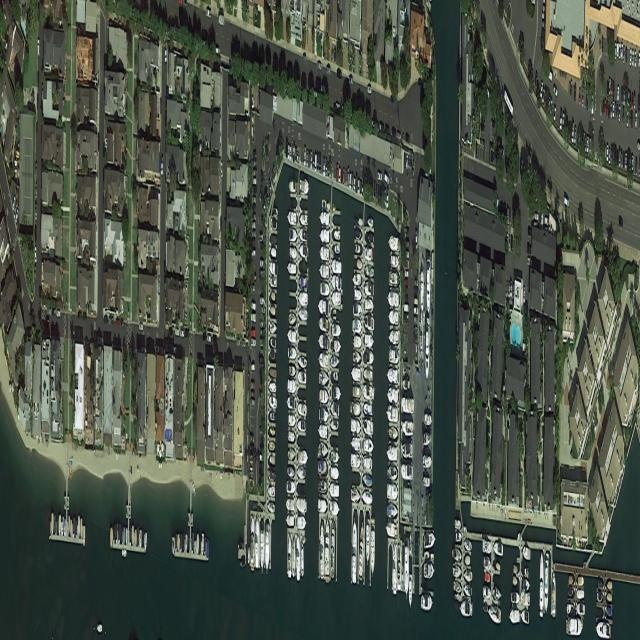large-vehicle: (504, 87, 514, 118)
ship: (358, 522, 365, 582), (352, 517, 357, 584), (325, 517, 330, 584), (544, 552, 549, 616), (425, 318, 430, 382), (539, 553, 544, 615), (404, 547, 409, 601), (265, 522, 270, 576), (568, 617, 582, 636), (488, 605, 501, 624), (401, 441, 413, 461), (596, 622, 610, 639), (331, 521, 335, 579), (320, 522, 324, 579), (251, 516, 255, 572), (401, 397, 414, 414), (260, 521, 264, 576), (388, 235, 400, 253), (401, 463, 413, 481), (427, 261, 431, 315), (371, 525, 375, 578), (255, 516, 259, 569), (387, 405, 398, 424), (386, 521, 397, 540), (393, 542, 397, 594), (402, 421, 414, 438), (387, 368, 398, 386), (387, 387, 398, 405), (387, 445, 398, 463), (552, 571, 556, 620), (366, 518, 370, 566), (421, 595, 433, 611), (388, 292, 399, 309), (318, 299, 329, 316), (363, 437, 374, 454), (387, 483, 398, 500), (424, 563, 435, 580), (318, 442, 329, 459), (319, 316, 329, 334), (320, 246, 330, 264), (363, 418, 373, 436), (386, 504, 398, 519), (424, 534, 436, 549), (350, 401, 361, 417), (388, 330, 399, 346), (318, 334, 329, 350), (319, 264, 330, 280), (460, 601, 471, 617), (331, 386, 342, 402), (292, 536, 296, 579), (351, 366, 361, 383), (389, 271, 399, 288), (389, 310, 399, 327), (319, 352, 329, 369), (320, 210, 330, 227), (363, 473, 373, 490), (362, 455, 372, 472), (319, 370, 329, 387), (330, 500, 340, 517), (300, 179, 310, 196), (287, 210, 297, 227), (362, 490, 373, 505), (387, 466, 398, 481), (363, 385, 373, 401), (332, 259, 342, 275), (351, 488, 361, 504), (351, 436, 361, 452), (297, 498, 307, 514), (319, 407, 329, 423), (332, 275, 341, 292), (318, 423, 327, 440), (289, 227, 298, 244), (364, 316, 374, 331), (351, 419, 361, 434), (332, 340, 342, 355), (320, 282, 330, 297), (351, 454, 361, 469), (389, 426, 399, 441), (492, 587, 502, 602), (287, 329, 297, 344), (365, 282, 374, 298), (494, 541, 503, 557), (330, 483, 339, 499), (319, 479, 328, 495), (330, 402, 339, 418), (398, 544, 401, 591), (297, 535, 300, 582), (363, 369, 373, 383), (353, 319, 363, 333), (320, 230, 330, 244), (298, 451, 308, 465), (318, 499, 328, 513), (318, 461, 328, 475), (521, 608, 529, 625), (353, 350, 362, 365), (390, 350, 399, 365), (363, 403, 372, 418), (332, 291, 341, 306), (420, 310, 423, 355), (320, 389, 329, 404), (287, 480, 296, 495), (331, 466, 340, 481), (289, 180, 298, 195), (453, 548, 462, 563), (453, 564, 462, 579), (288, 535, 291, 579), (297, 517, 307, 530), (523, 546, 531, 562), (365, 351, 374, 365), (365, 299, 374, 313), (353, 302, 362, 316), (365, 265, 374, 279), (510, 610, 519, 624), (423, 455, 432, 469), (297, 467, 306, 481), (298, 403, 307, 417), (299, 293, 308, 307), (299, 308, 308, 322), (364, 247, 372, 262), (483, 585, 491, 600), (421, 271, 424, 311), (424, 432, 432, 447), (269, 396, 277, 411), (287, 465, 295, 480), (287, 396, 295, 411), (299, 244, 307, 259), (287, 263, 297, 275), (288, 379, 296, 394), (353, 387, 362, 400), (365, 334, 374, 347), (332, 324, 341, 337), (521, 579, 530, 592), (483, 541, 492, 554), (286, 499, 295, 512), (331, 451, 340, 464), (330, 419, 339, 432), (288, 347, 297, 360), (299, 228, 307, 242), (270, 262, 278, 276), (289, 312, 297, 326), (454, 580, 462, 594), (511, 592, 520, 604), (464, 571, 473, 583), (299, 277, 308, 289), (354, 336, 362, 349), (354, 289, 362, 302), (391, 256, 399, 269), (331, 356, 339, 369), (522, 593, 530, 606), (464, 584, 472, 597), (402, 379, 410, 392), (288, 414, 296, 427), (298, 419, 306, 432), (298, 371, 306, 384), (409, 575, 412, 609), (301, 544, 304, 578), (576, 604, 585, 615), (298, 358, 307, 369), (484, 557, 491, 571), (290, 247, 297, 261), (464, 539, 472, 551), (269, 368, 277, 380), (288, 449, 296, 461), (286, 514, 294, 526), (300, 214, 308, 226), (425, 414, 432, 427), (268, 486, 275, 499), (353, 275, 361, 286), (267, 502, 275, 513), (288, 432, 296, 443), (268, 470, 275, 482), (270, 322, 277, 334), (577, 590, 585, 600), (357, 258, 363, 271), (240, 557, 246, 570), (270, 278, 277, 289), (409, 533, 412, 558), (367, 217, 373, 229), (355, 229, 361, 241), (424, 549, 430, 561), (423, 477, 430, 487), (269, 383, 276, 393), (289, 366, 296, 376), (270, 234, 277, 244), (334, 230, 340, 241), (485, 573, 491, 584), (51, 513, 54, 535), (110, 527, 113, 549), (270, 338, 276, 349), (455, 520, 461, 531), (567, 605, 574, 614), (196, 532, 199, 553), (355, 244, 361, 254), (368, 234, 374, 244), (185, 534, 188, 554), (238, 542, 244, 552), (118, 525, 121, 545), (80, 519, 83, 539), (271, 220, 277, 230), (456, 533, 462, 543), (177, 534, 180, 553), (513, 576, 518, 587), (496, 562, 501, 573), (97, 623, 102, 634), (513, 563, 518, 574), (483, 603, 488, 614), (334, 245, 340, 254), (578, 577, 584, 586), (597, 593, 603, 602), (606, 608, 612, 617), (113, 526, 116, 544), (270, 307, 276, 316), (465, 556, 470, 566), (270, 456, 275, 466), (271, 248, 276, 258), (402, 564, 404, 589), (524, 566, 529, 576), (202, 533, 204, 557), (269, 443, 275, 451), (59, 514, 61, 537), (78, 516, 80, 539), (598, 581, 603, 590), (333, 373, 338, 382), (122, 549, 127, 558), (132, 526, 134, 548), (192, 532, 194, 554), (207, 539, 209, 561), (68, 515, 70, 537), (83, 526, 85, 548), (322, 198, 326, 209), (145, 532, 147, 553), (116, 523, 118, 544), (73, 518, 75, 539), (569, 577, 574, 585), (607, 582, 612, 590), (607, 594, 612, 602), (172, 537, 174, 557), (62, 517, 64, 537), (270, 352, 275, 360), (271, 292, 275, 302), (130, 528, 132, 547), (175, 534, 177, 553), (204, 537, 206, 556), (135, 530, 137, 548), (140, 530, 142, 548), (180, 535, 182, 553), (248, 547, 250, 565), (123, 527, 125, 545), (64, 519, 66, 537), (70, 520, 72, 538), (75, 521, 77, 539), (274, 208, 278, 217), (199, 536, 201, 554), (270, 414, 275, 421), (126, 529, 128, 546), (566, 618, 568, 635), (569, 589, 573, 597), (431, 553, 434, 563)
small-vehicle: (379, 120, 385, 135), (391, 126, 397, 141), (218, 13, 224, 27), (206, 6, 212, 19), (384, 172, 390, 185), (520, 159, 524, 178), (566, 354, 570, 373), (564, 195, 569, 210), (266, 187, 270, 205), (262, 195, 266, 213), (259, 186, 263, 204), (265, 145, 269, 163), (251, 312, 257, 324), (553, 85, 558, 99), (572, 121, 575, 144), (12, 195, 16, 212), (559, 110, 562, 132), (415, 229, 418, 251), (540, 79, 543, 100), (535, 70, 538, 91), (527, 256, 532, 268), (414, 284, 419, 296), (403, 303, 409, 313), (337, 69, 342, 81), (14, 199, 17, 219), (37, 2, 40, 22), (347, 166, 350, 186), (351, 172, 354, 192), (386, 188, 389, 208), (385, 123, 390, 135), (405, 132, 410, 144), (323, 157, 326, 177), (251, 300, 256, 312), (574, 126, 577, 145), (506, 234, 509, 253), (539, 211, 542, 230), (544, 86, 547, 105), (220, 160, 223, 179), (397, 129, 401, 143), (175, 327, 180, 338), (82, 312, 87, 323), (251, 327, 256, 338), (367, 85, 372, 96), (542, 86, 545, 104), (553, 105, 556, 123), (413, 325, 416, 343), (633, 92, 636, 110), (357, 177, 360, 195), (375, 181, 378, 199), (260, 338, 266, 347), (285, 139, 288, 157), (619, 217, 623, 230), (548, 96, 551, 113), (523, 287, 526, 304), (269, 177, 272, 194), (629, 48, 632, 65), (631, 155, 634, 172), (34, 247, 37, 264), (37, 39, 40, 56), (289, 144, 292, 161), (98, 337, 103, 347), (317, 60, 322, 70), (321, 83, 326, 93), (312, 90, 317, 100), (335, 102, 340, 112), (528, 226, 532, 238), (631, 93, 634, 109), (171, 347, 177, 355), (15, 208, 18, 224), (260, 297, 266, 305), (287, 143, 290, 159), (180, 329, 185, 338), (185, 329, 190, 338), (326, 66, 331, 75), (214, 47, 219, 56), (47, 307, 52, 316), (405, 239, 410, 248), (260, 259, 265, 268), (251, 338, 256, 347), (161, 155, 163, 177), (262, 304, 266, 315), (250, 434, 254, 445), (349, 75, 353, 86), (635, 157, 637, 178), (378, 183, 380, 204), (319, 152, 321, 173), (317, 151, 319, 172), (542, 20, 546, 30), (413, 316, 418, 324), (535, 211, 539, 221), (39, 286, 41, 306), (260, 234, 265, 242), (169, 326, 173, 336), (303, 53, 307, 63), (334, 43, 336, 63), (252, 204, 256, 214), (165, 43, 167, 63), (57, 308, 61, 318), (158, 275, 160, 295), (104, 315, 108, 325), (139, 323, 144, 331), (343, 166, 345, 186), (378, 171, 382, 181), (261, 270, 265, 280), (313, 151, 315, 171), (570, 78, 572, 97), (579, 86, 581, 105), (568, 119, 570, 138), (585, 134, 587, 153), (587, 135, 589, 154), (541, 211, 543, 230), (508, 280, 510, 299), (506, 279, 508, 298), (609, 146, 611, 165), (623, 45, 625, 64), (325, 158, 327, 177), (336, 162, 338, 181), (349, 171, 351, 190), (356, 174, 358, 193), (315, 153, 317, 172), (304, 147, 306, 166), (625, 87, 627, 105), (562, 113, 564, 131), (586, 92, 588, 110), (570, 121, 572, 139), (542, 11, 546, 20), (509, 235, 511, 253), (414, 307, 418, 316), (414, 298, 418, 307), (481, 123, 485, 132), (509, 208, 511, 226), (511, 235, 513, 253), (545, 217, 549, 226), (510, 280, 512, 298), (260, 355, 264, 364), (391, 96, 395, 105), (613, 145, 615, 163), (615, 145, 617, 163), (632, 48, 634, 66), (621, 151, 623, 169), (613, 101, 615, 119), (615, 101, 617, 119), (621, 87, 623, 105), (615, 42, 617, 60), (617, 41, 619, 59), (611, 145, 613, 163), (619, 150, 621, 168), (623, 151, 625, 169), (252, 248, 256, 257), (220, 217, 222, 235), (207, 334, 211, 343), (155, 346, 159, 355), (253, 150, 257, 159), (253, 159, 257, 168), (253, 168, 257, 177), (252, 195, 256, 204), (252, 213, 256, 222), (35, 226, 37, 244), (34, 267, 36, 285), (52, 308, 56, 317), (109, 317, 113, 326), (37, 92, 39, 110), (252, 230, 256, 239), (345, 168, 347, 186), (404, 151, 406, 169), (406, 154, 408, 172), (408, 154, 410, 172), (410, 154, 412, 172), (405, 226, 409, 235), (251, 399, 255, 408), (251, 284, 255, 293), (261, 320, 265, 329), (251, 390, 255, 399), (260, 427, 264, 436), (310, 150, 312, 168), (617, 149, 619, 166), (613, 80, 615, 97), (574, 84, 576, 101), (583, 132, 585, 149), (589, 137, 591, 154), (602, 97, 604, 114), (608, 102, 610, 119), (607, 80, 609, 97), (609, 79, 611, 96), (611, 79, 613, 96), (617, 85, 619, 102), (610, 102, 612, 119), (634, 51, 636, 68), (160, 97, 162, 114), (165, 111, 167, 128), (625, 47, 627, 64), (619, 105, 621, 122), (619, 43, 621, 60), (621, 43, 623, 60), (625, 152, 627, 169), (629, 155, 631, 172), (623, 106, 625, 123), (623, 88, 625, 105), (631, 111, 633, 128), (332, 44, 334, 61), (35, 162, 37, 179), (35, 204, 37, 221), (339, 166, 341, 183), (341, 168, 343, 185), (374, 180, 376, 197), (293, 145, 295, 162), (306, 150, 308, 167), (308, 151, 310, 168), (543, 4, 546, 15), (582, 90, 584, 106), (602, 35, 604, 51), (507, 208, 509, 224), (534, 222, 538, 230), (512, 285, 514, 301), (213, 334, 217, 342), (616, 103, 618, 119), (629, 111, 631, 127), (635, 113, 637, 129), (405, 270, 409, 278), (253, 177, 257, 185), (252, 221, 256, 229), (35, 183, 37, 199), (37, 71, 39, 87), (36, 122, 38, 138), (116, 319, 120, 327), (251, 381, 255, 389), (251, 364, 255, 372), (604, 99, 606, 114), (606, 101, 608, 116), (491, 150, 493, 165), (493, 153, 495, 168), (165, 96, 167, 111), (627, 112, 629, 127), (253, 186, 257, 193), (120, 320, 123, 329), (415, 279, 418, 287), (203, 334, 206, 342), (78, 313, 81, 320), (628, 88, 629, 107), (98, 134, 99, 152), (476, 142, 477, 159), (607, 145, 608, 162), (354, 175, 355, 190)
